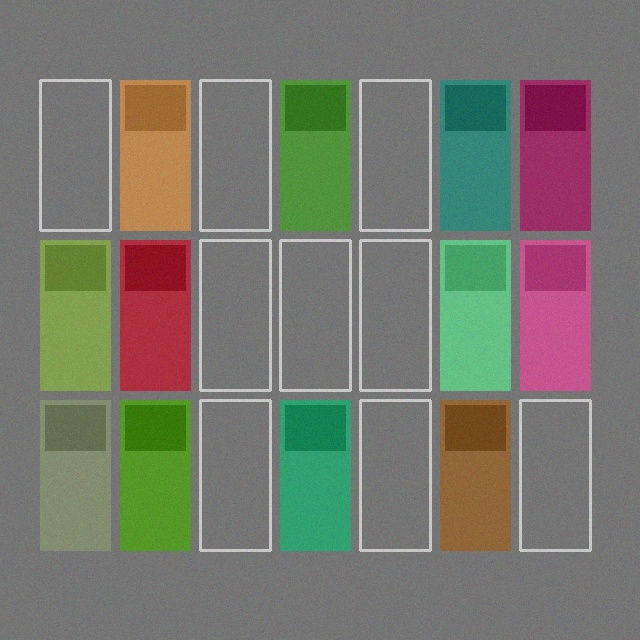space-empty: (40, 80, 110, 230), (200, 80, 270, 230), (360, 80, 430, 230), (200, 240, 270, 390), (280, 240, 350, 390), (360, 240, 430, 390), (200, 400, 270, 550), (360, 400, 430, 550), (520, 400, 590, 550)
space-occupied: (120, 80, 190, 230), (280, 80, 350, 230), (440, 80, 510, 230), (520, 80, 590, 230), (40, 240, 110, 390), (120, 240, 190, 390), (440, 240, 510, 390), (520, 240, 590, 390), (40, 400, 110, 550), (120, 400, 190, 550), (280, 400, 350, 550), (440, 400, 510, 550)
